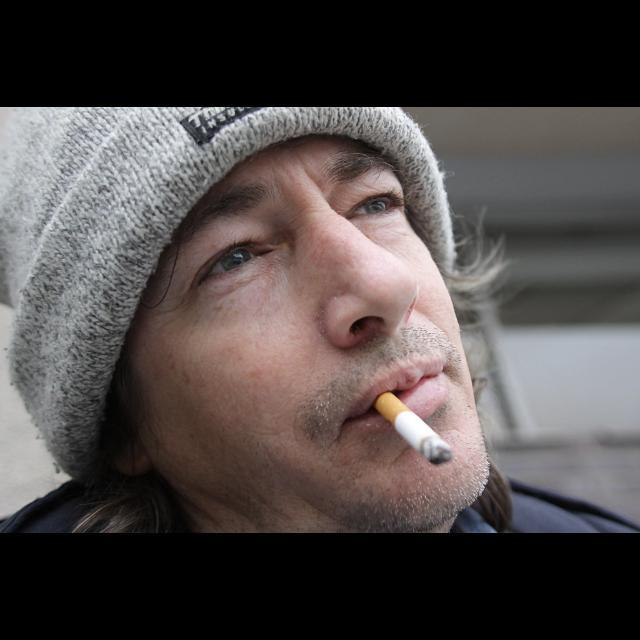rokok: (368, 386, 462, 469)
